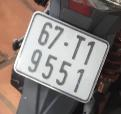1: (68, 65, 90, 98), (82, 38, 99, 69)
5: (53, 57, 74, 90), (39, 51, 60, 83)
6: (32, 19, 56, 52)
7: (45, 22, 67, 55)
9: (24, 47, 46, 77)
T: (68, 32, 90, 64)
